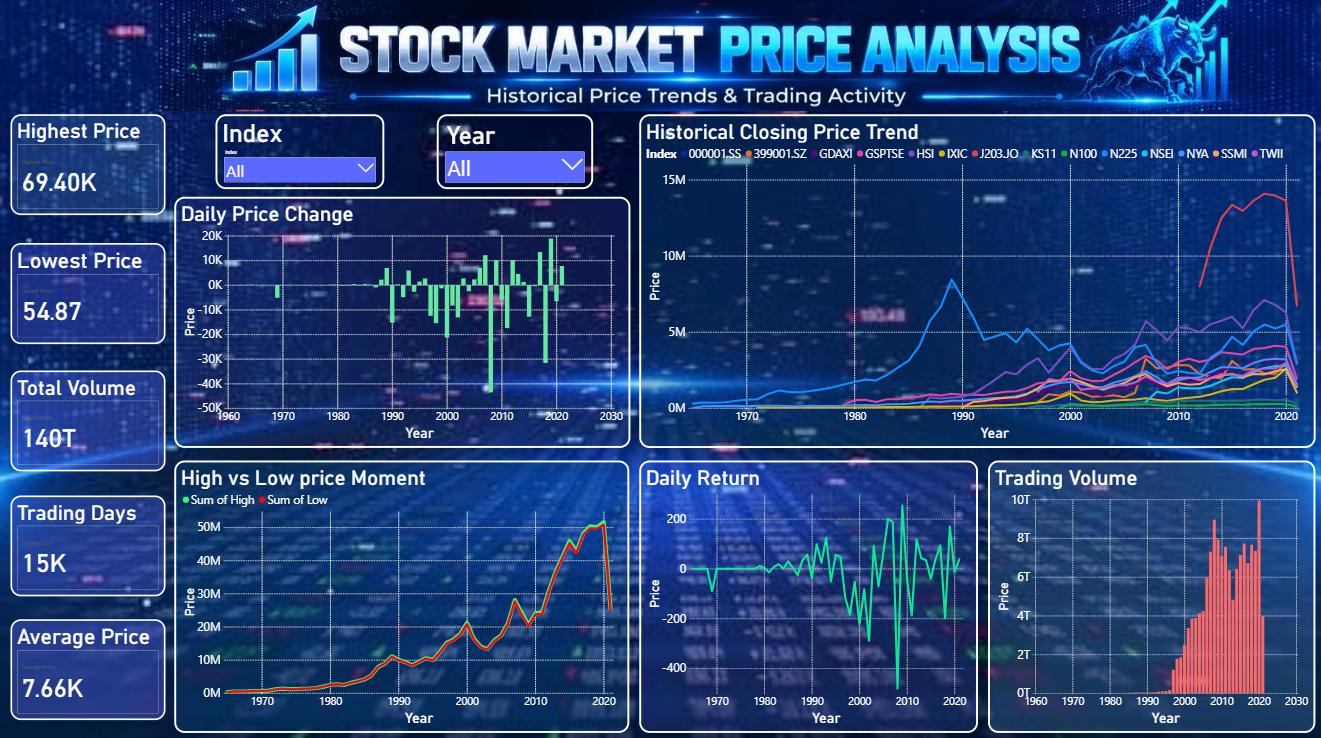

Layout of this report page (visuals, bound fields, positions):
{"tool":"powerbi","page":{"name":"Page 1","canvas":[3840,2160],"ordinal":0},"visuals":[{"type":"cardVisual","title":"Highest Price","fields":{"Data":["Market.Highest Price"]},"box":[36.2,336.6,448.7,292.3],"z":0},{"type":"cardVisual","title":"Lowest Price","fields":{"Data":["Market.Lowest Price"]},"box":[36.2,709.4,448.8,293.2],"z":2000},{"type":"cardVisual","title":"Average Price","fields":{"Data":["Market.Average Price"]},"box":[36.2,1798.8,448.7,292.3],"z":3000},{"type":"cardVisual","title":"Total Volume","fields":{"Data":["Market.Total Volume"]},"box":[36.2,1078.6,448.7,292.3],"z":4000},{"type":"cardVisual","title":"Trading Days","fields":{"Data":["Market.Trading Days"]},"box":[36.2,1440.5,448.7,292.3],"z":5000},{"type":"slicer","fields":{"Values":["Market.Year"]},"box":[1270.4,336.6,452.4,217.2],"z":6000},{"type":"slicer","title":"Index","fields":{"Values":["Market.Index"]},"box":[629.8,336.6,488.6,217.2],"z":7000},{"type":"lineChart","title":"High vs Low price Moment","fields":{"Category":["Market.Date.Variation.Date Hierarchy.Year","Market.Date.Variation.Date Hierarchy.Quarter","Market.Date.Variation.Date Hierarchy.Month","Market.Date.Variation.Date Hierarchy.Day"],"Y":["Sum(Market.High)","Sum(Market.Low)"]},"box":[510.3,1339.1,1317.4,789],"z":8000},{"type":"lineChart","title":"Daily Return","fields":{"Category":["Market.Date.Variation.Date Hierarchy.Year","Market.Date.Variation.Date Hierarchy.Quarter","Market.Date.Variation.Date Hierarchy.Month","Market.Date.Variation.Date Hierarchy.Day"],"Y":["Sum(Market.Daily Return %)"]},"box":[1856.7,1339.1,980.8,789],"z":10000},{"type":"columnChart","title":"Daily Price Change","fields":{"Category":["Market.Date.Variation.Date Hierarchy.Year","Market.Date.Variation.Date Hierarchy.Quarter","Market.Date.Variation.Date Hierarchy.Month","Market.Date.Variation.Date Hierarchy.Day"],"Y":["Sum(Market.Daily Change)"]},"box":[510.3,575.5,1321.1,727.5],"z":12000},{"type":"columnChart","title":"Trading Volume","fields":{"Category":["Market.Date.Variation.Date Hierarchy.Year","Market.Date.Variation.Date Hierarchy.Quarter","Market.Date.Variation.Date Hierarchy.Month","Market.Date.Variation.Date Hierarchy.Day"],"Y":["Market.Total Volume"]},"box":[2866.5,1339.1,948.3,789],"z":13000},{"type":"lineChart","title":"Historical Closing Price Trend","fields":{"Category":["Market.Date.Variation.Date Hierarchy.Year","Market.Date.Variation.Date Hierarchy.Quarter","Market.Date.Variation.Date Hierarchy.Month","Market.Date.Variation.Date Hierarchy.Day"],"Series":["Market.Index"],"Y":["Sum(Market.Close)"]},"box":[1856.7,336.6,1958.1,966.4],"z":13001},{"type":"image","box":[459.7,0,3355.1,333],"z":13002}]}

Visuals, with their boxes in screenshot pixels (x1, y1, x2, y2), scaled from the page's 3840x2160 canvas onto the 1321x738 screenshot:
"Highest Price" cardVisual: box(12, 115, 167, 215)
"Lowest Price" cardVisual: box(12, 242, 167, 343)
"Average Price" cardVisual: box(12, 615, 167, 714)
"Total Volume" cardVisual: box(12, 369, 167, 468)
"Trading Days" cardVisual: box(12, 492, 167, 592)
slicer - Market.Year: box(437, 115, 593, 189)
"Index" slicer: box(217, 115, 385, 189)
"High vs Low price Moment" lineChart: box(176, 458, 629, 727)
"Daily Return" lineChart: box(639, 458, 976, 727)
"Daily Price Change" columnChart: box(176, 197, 630, 445)
"Trading Volume" columnChart: box(986, 458, 1312, 727)
"Historical Closing Price Trend" lineChart: box(639, 115, 1312, 445)
image: box(158, 0, 1312, 114)
